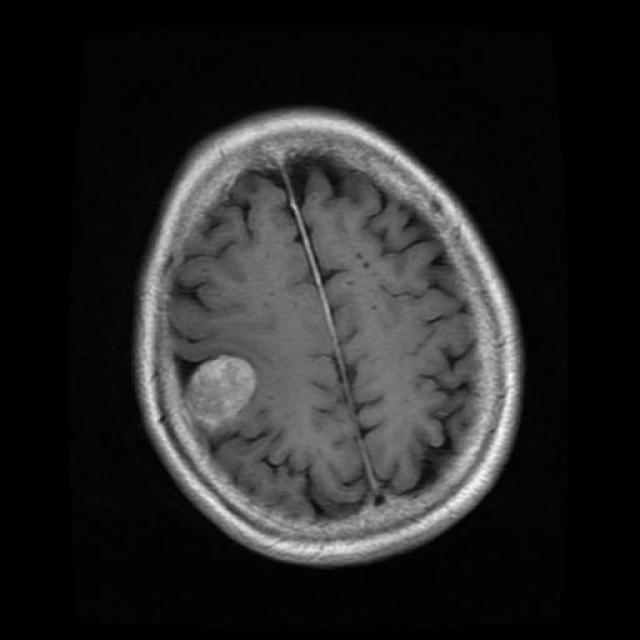meningioma: (186, 356, 256, 424)
